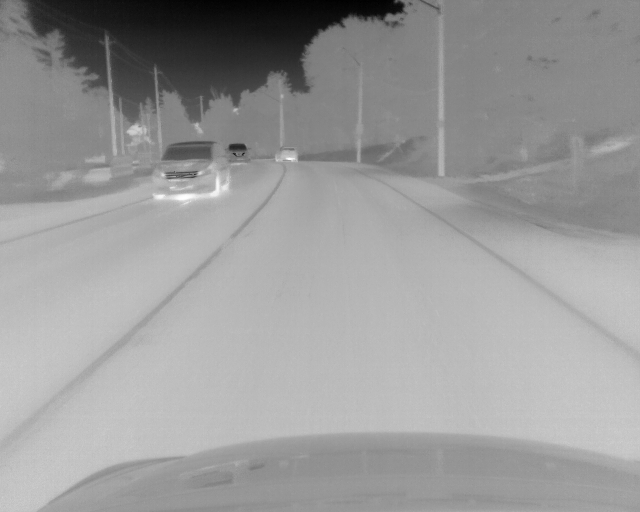car: (149, 140, 229, 200), (226, 141, 250, 163), (274, 145, 299, 162)
